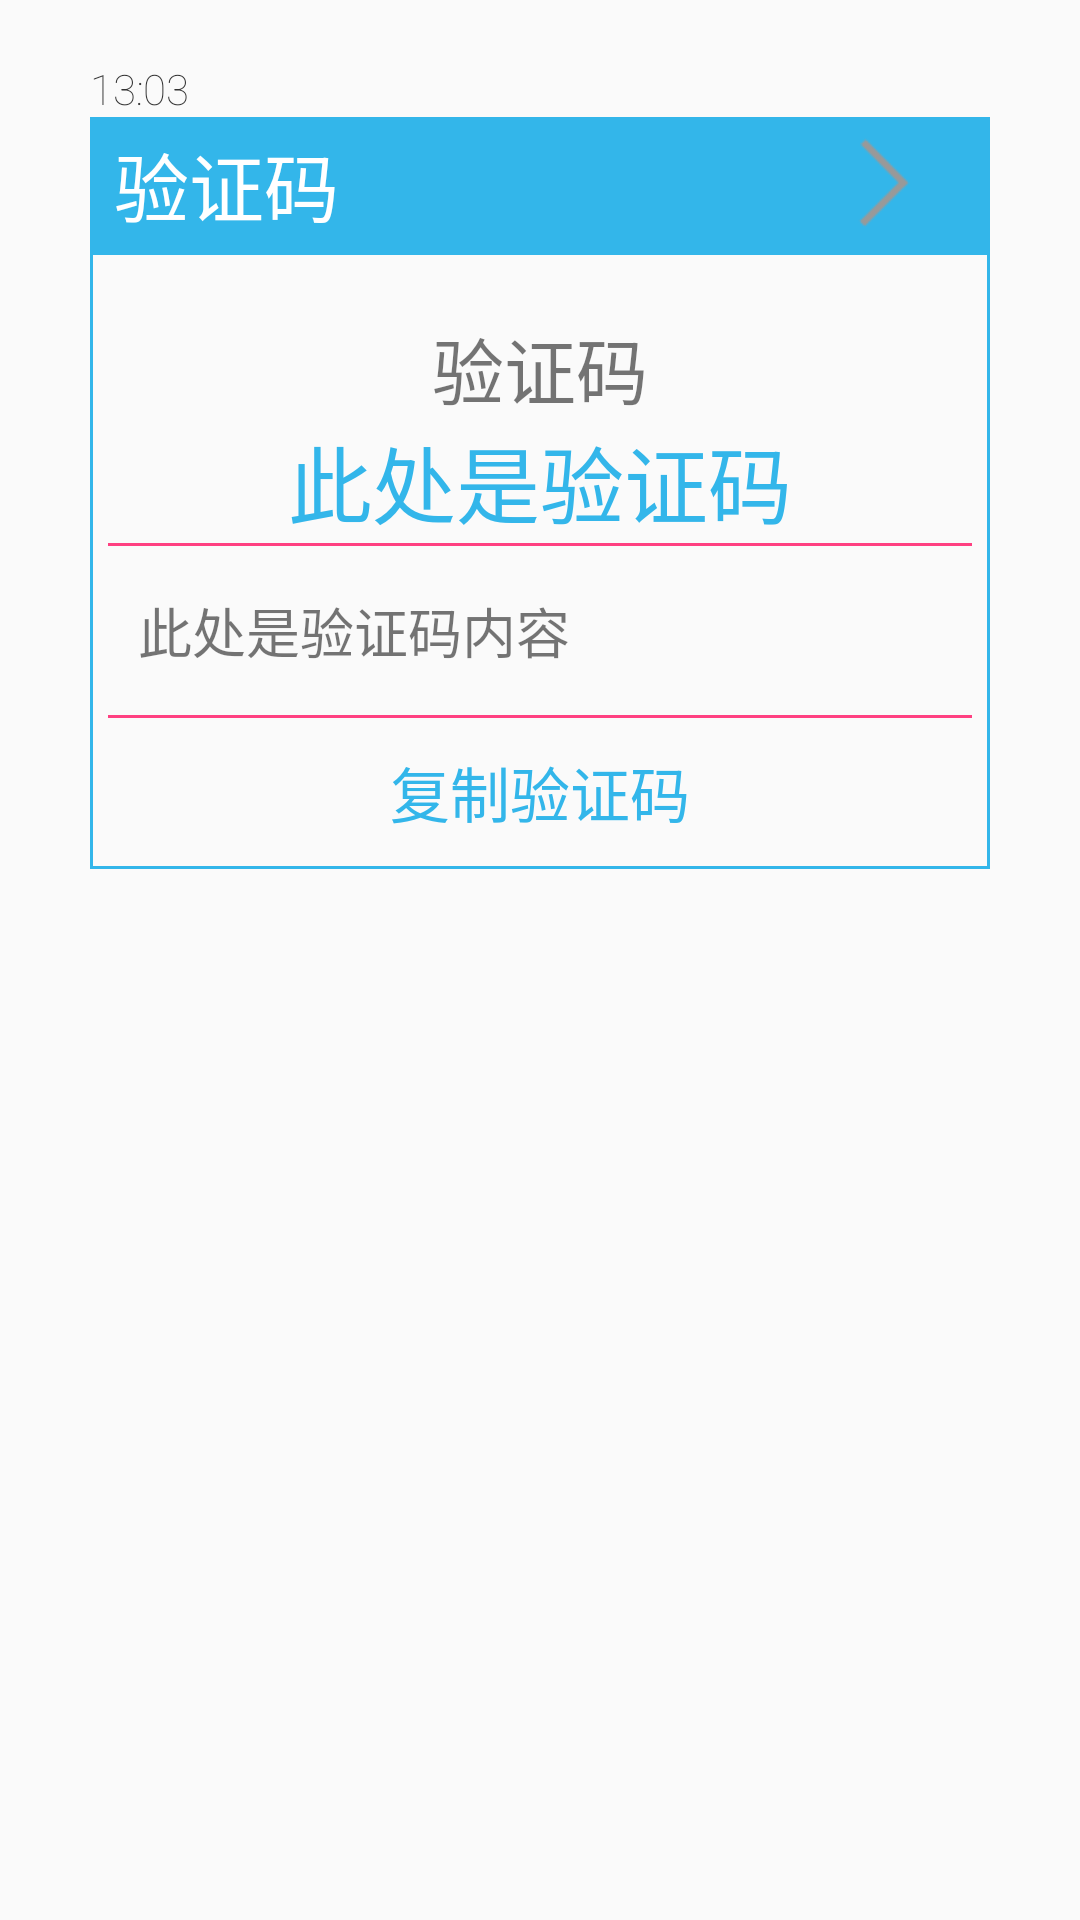

Icon click points for this 1080×1920 phone screenshot, format [x,y]:
right: [884,182]
